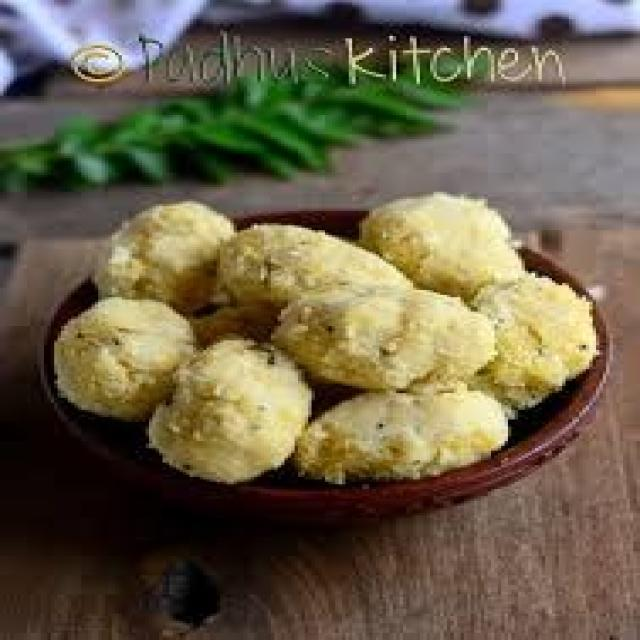pidi kolukattai: (47, 171, 610, 501)
